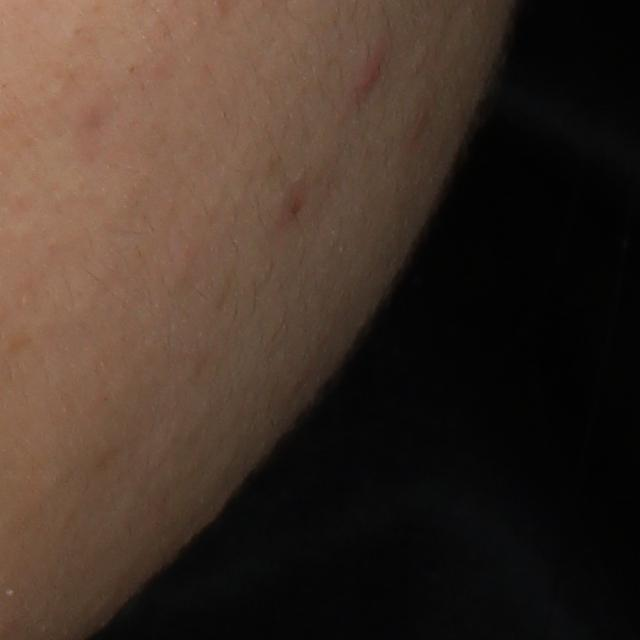papule: (350, 55, 386, 98)
